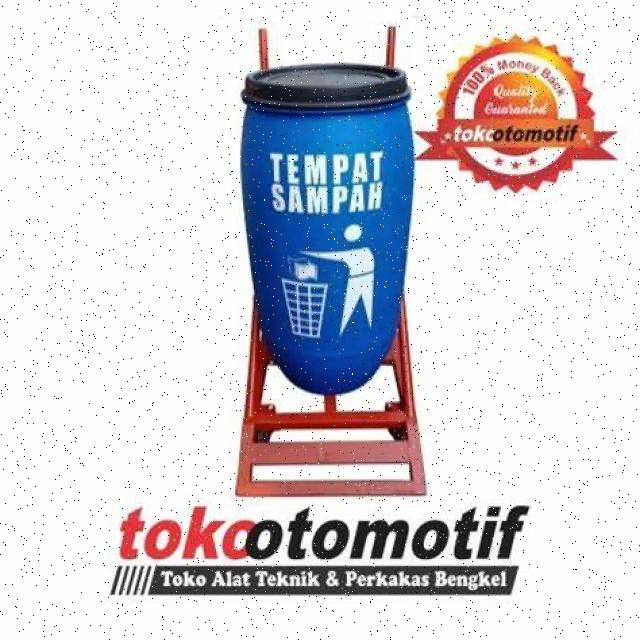garbage container: (231, 28, 425, 392)
